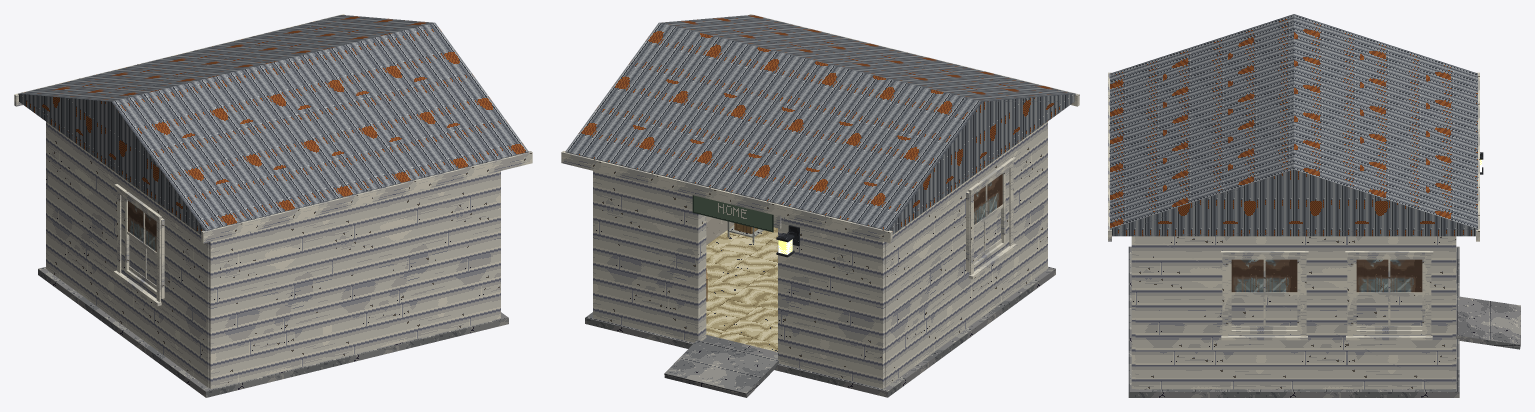
The model's file is buildings__home.glb.
3 renders of one model, left to right at view 1: azimuth 30°, elevation 25°; view 2: azimuth 150°, elevation 25°; view 3: azimuth 270°, elevation 25°, orthographic.
Parts seen in each view (by area): view 1: _MeshInstance3D_197, _MeshInstance3D_193, _MeshInstance3D_195, _MeshInstance3D_196, RES_Ext_Window_DoubleHung_1_1x1_3_Mesh3; view 2: _MeshInstance3D_197, _MeshInstance3D_193, _MeshInstance3D_195, _MeshInstance3D_198, _MeshInstance3D_196, RES_Ext_Window_DoubleHung_1_1x1_3_Mesh3, _MeshInstance3D_184, SP_Lamp_Wall_Mesh, _MeshInstance3D_194; view 3: _MeshInstance3D_197, _MeshInstance3D_193, _MeshInstance3D_195, RES_Ext_Window_DoubleHung_1_1x1_3_Mesh, RES_Ext_Window_DoubleHung_1_1x1_3_Mesh2, _MeshInstance3D_196, INT_WindowSash, INT_WindowSash2.
Part boxes in pixels (left/top/right/bottom): _MeshInstance3D_197: left=18, top=15, right=528, bottom=234; _MeshInstance3D_193: left=46, top=122, right=500, bottom=388; _MeshInstance3D_195: left=38, top=267, right=508, bottom=397; _MeshInstance3D_196: left=14, top=14, right=532, bottom=243; RES_Ext_Window_DoubleHung_1_1x1_3_Mesh3: left=113, top=184, right=164, bottom=305; _MeshInstance3D_197: left=565, top=15, right=1075, bottom=234; _MeshInstance3D_193: left=593, top=121, right=1047, bottom=388; _MeshInstance3D_195: left=585, top=266, right=1055, bottom=397; _MeshInstance3D_198: left=706, top=225, right=777, bottom=351; _MeshInstance3D_196: left=561, top=14, right=1079, bottom=243; RES_Ext_Window_DoubleHung_1_1x1_3_Mesh3: left=966, top=157, right=1016, bottom=279; _MeshInstance3D_184: left=692, top=195, right=773, bottom=232; SP_Lamp_Wall_Mesh: left=776, top=225, right=799, bottom=257; _MeshInstance3D_194: left=706, top=216, right=734, bottom=244; _MeshInstance3D_197: left=1110, top=14, right=1477, bottom=236; _MeshInstance3D_193: left=1131, top=236, right=1456, bottom=389; _MeshInstance3D_195: left=1128, top=246, right=1520, bottom=397; RES_Ext_Window_DoubleHung_1_1x1_3_Mesh: left=1345, top=251, right=1433, bottom=340; RES_Ext_Window_DoubleHung_1_1x1_3_Mesh2: left=1220, top=251, right=1308, bottom=340; _MeshInstance3D_196: left=1108, top=72, right=1479, bottom=241; INT_WindowSash: left=1356, top=295, right=1422, bottom=329; INT_WindowSash2: left=1231, top=295, right=1297, bottom=329.
Size of the model in its own units: 5.7 by 4 by 6.28.
20 materials, 16 textured.
